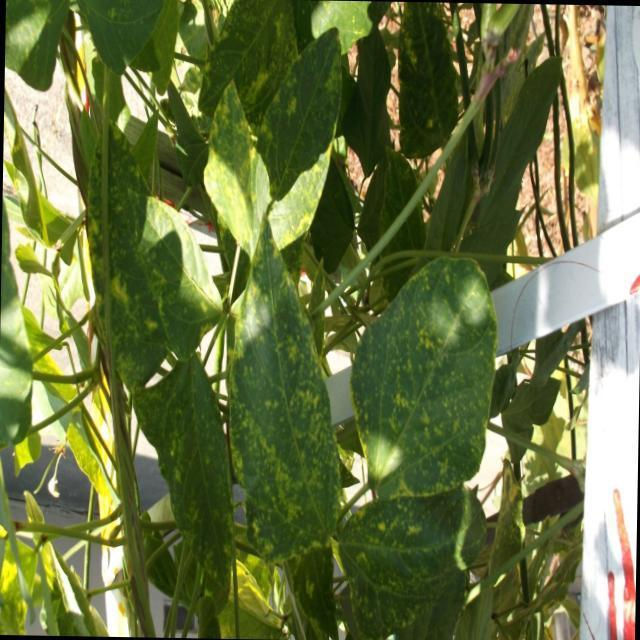Mosaic Virus: (72, 142, 225, 386), (239, 239, 324, 572), (369, 282, 492, 502), (140, 380, 232, 620), (344, 482, 467, 634), (264, 39, 352, 242)
